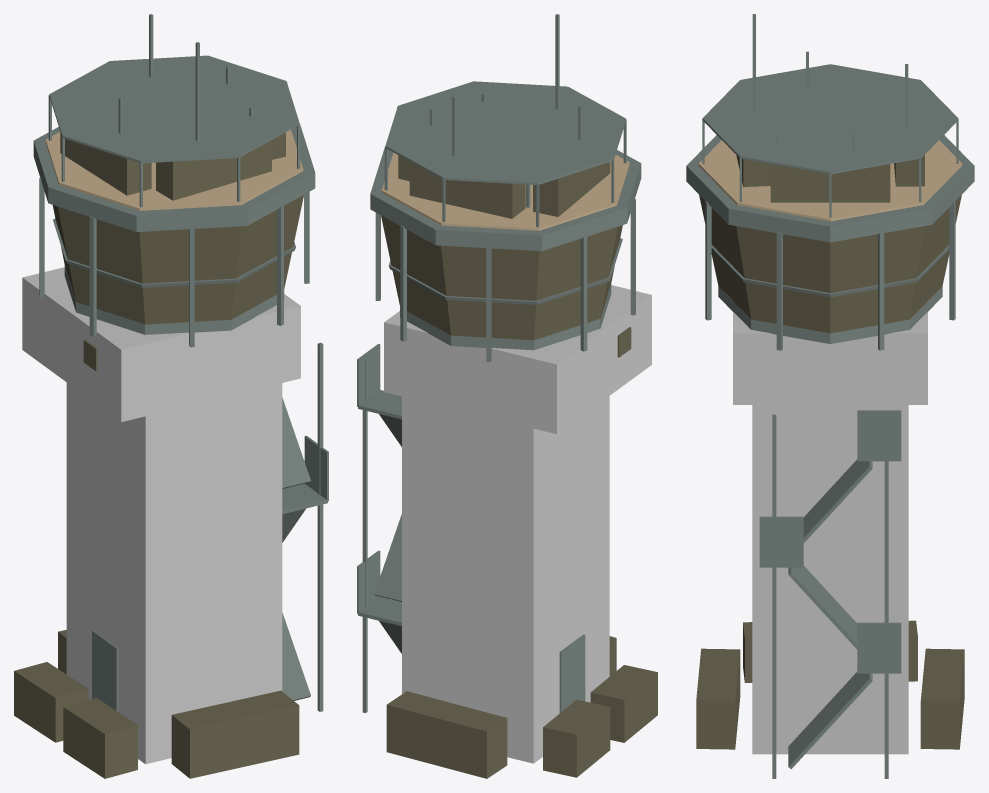
The model's file is SM_TorreControl_v2_LOD0.fbx.
The picture shows the model from 3 angles, left to right: view 1: azimuth 30°, elevation 25°; view 2: azimuth 150°, elevation 25°; view 3: azimuth 270°, elevation 25°; orthographic projection. The views are drawn at different scales.
Visible parts, largest first — view 1: SM_torre_control_v2_LOD0; view 2: SM_torre_control_v2_LOD0; view 3: SM_torre_control_v2_LOD0.
Part boxes in pixels (x1=…): SM_torre_control_v2_LOD0: x1=14, y1=14, x2=328, y2=778; SM_torre_control_v2_LOD0: x1=357, y1=14, x2=657, y2=778; SM_torre_control_v2_LOD0: x1=686, y1=14, x2=974, y2=778.
Bounding box in the file's own units: 5.9 × 15.81 × 5.9.
